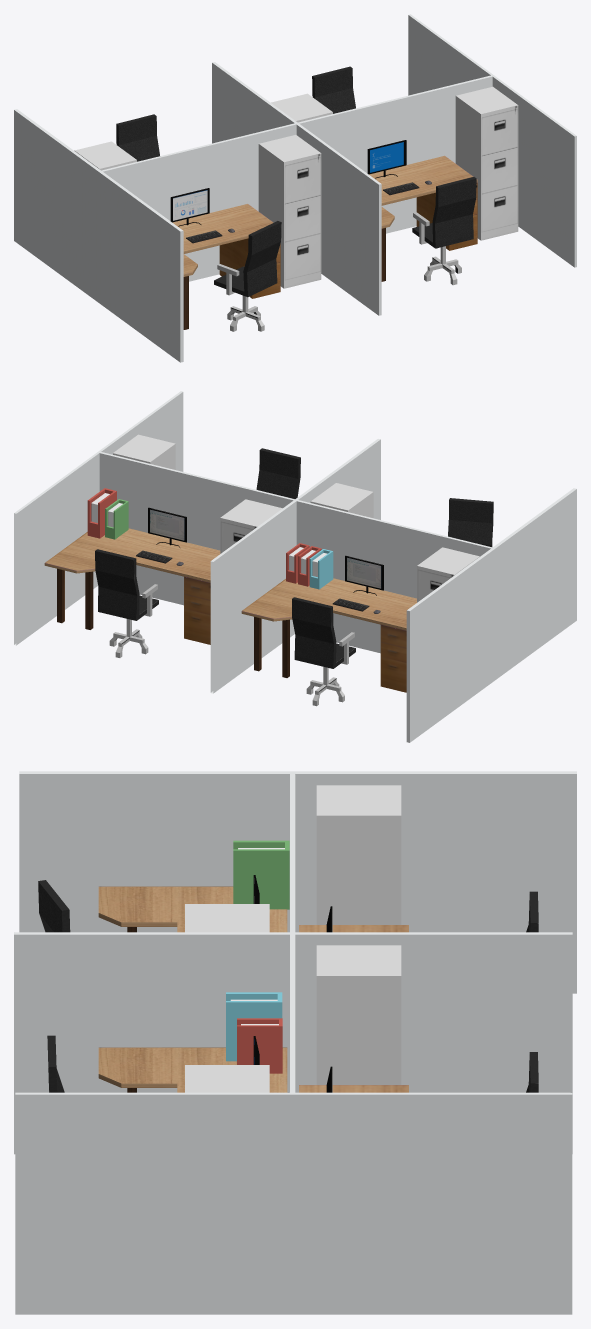
Rendered from stanowsikaglb.glb.
3 renders of one model, top to bottom at view 1: azimuth 30°, elevation 25°; view 2: azimuth 150°, elevation 25°; view 3: azimuth 270°, elevation 25°, orthographic. The views are drawn at different scales.
Parts seen in each view (by area): view 1: biurko.014, biurko.019, biurko.010, biurko.016, biurko.015, biurko.023, biurko.006, biurko.049, biurko.026, biurko.022, biurko.007, biurko.045 (+1 smaller); view 2: biurko.014, biurko.041, biurko.042, biurko.026, biurko.049, biurko.006, biurko.023, biurko.045, biurko.031, biurko.010, biurko.019, biurko.027 (+6 smaller); view 3: biurko.014, biurko.031, biurko.045, biurko.016, biurko.015, biurko.003, biurko.010, biurko.019, biurko.021, biurko.024, biurko.006, biurko.041 (+1 smaller).
Boxes of the visible parts, x1,y1,x2,y2 form: biurko.014: (14, 14, 576, 362); biurko.019: (455, 86, 518, 240); biurko.010: (258, 135, 321, 288); biurko.016: (172, 204, 280, 329); biurko.015: (369, 155, 477, 281); biurko.023: (412, 177, 476, 285); biurko.006: (214, 221, 281, 331); biurko.049: (116, 114, 159, 161); biurko.026: (312, 66, 355, 113); biurko.022: (367, 140, 406, 178); biurko.007: (170, 188, 209, 226); biurko.045: (74, 141, 136, 170); biurko.014: (14, 391, 576, 742); biurko.041: (44, 528, 220, 644); biurko.042: (241, 578, 416, 692); biurko.026: (95, 549, 158, 657); biurko.049: (292, 597, 355, 706); biurko.006: (448, 498, 493, 546); biurko.023: (256, 448, 300, 498); biurko.045: (417, 547, 479, 602); biurko.031: (220, 499, 282, 553); biurko.010: (310, 483, 373, 518); biurko.019: (113, 434, 175, 469); biurko.027: (148, 507, 186, 547); biurko.014: (14, 771, 576, 1314); biurko.031: (316, 945, 401, 1084); biurko.045: (316, 785, 401, 924); biurko.016: (98, 886, 287, 932); biurko.015: (98, 1047, 287, 1092); biurko.003: (233, 840, 289, 909); biurko.010: (185, 904, 269, 932); biurko.019: (185, 1065, 269, 1092); biurko.021: (237, 1018, 282, 1073); biurko.024: (226, 992, 282, 1061); biurko.006: (38, 880, 70, 932); biurko.041: (299, 1085, 408, 1092).
Size of the model in its own units: 13.9 by 4.41 by 10.23.
38 materials, 38 textured.
